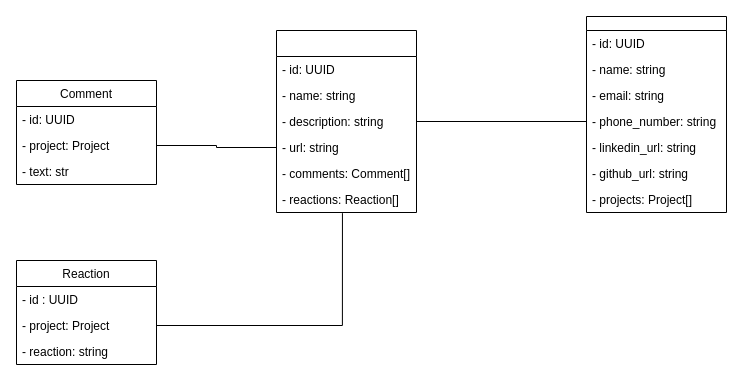
This 743x381 diagram has some shape labels left out. Each missing label, with the box of its shape:
Project: (276, 30, 416, 212)
User: (586, 16, 726, 212)
